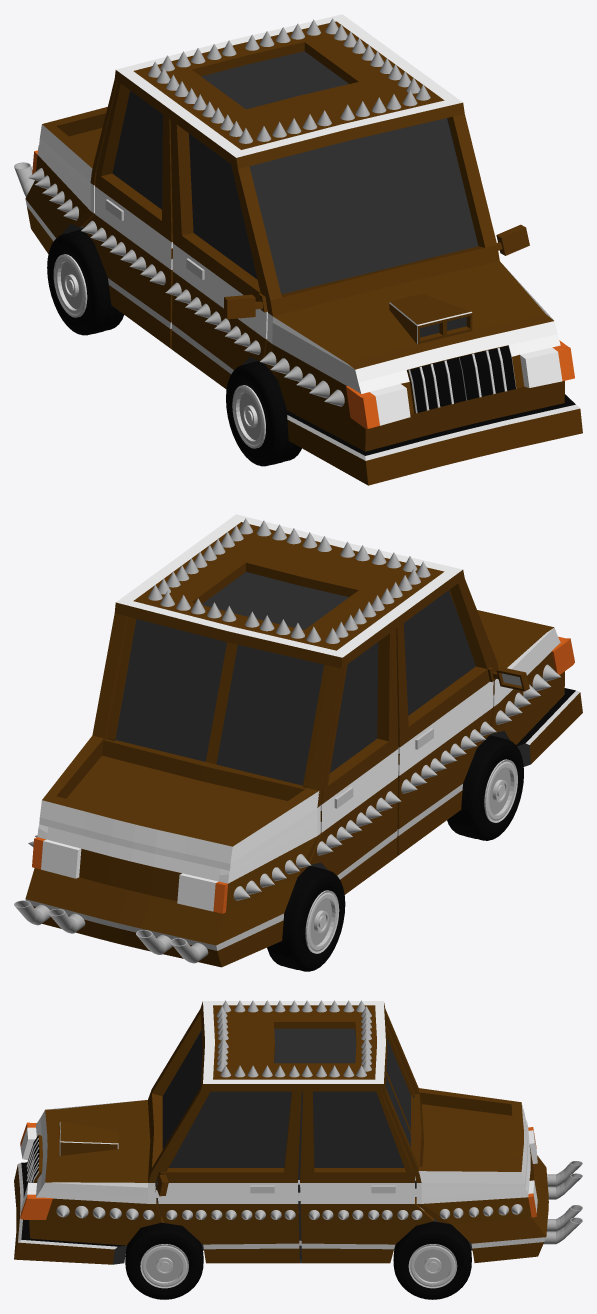
3 views of the same model, one above another, from view 1: azimuth 30°, elevation 25°; view 2: azimuth 150°, elevation 25°; view 3: azimuth 270°, elevation 25° (orthographic). The views are drawn at different scales.
Parts seen in each view (by area): view 1: BODY, WHEEL.004, WHEEL.001; view 2: BODY, WHEEL.004, WHEEL.001; view 3: BODY, WHEEL.002, WHEEL.003.
Part boxes in pixels (x1,y1,x2,y2): BODY: (14, 14, 582, 485); WHEEL.004: (47, 229, 123, 335); WHEEL.001: (226, 361, 301, 466); BODY: (14, 514, 582, 967); WHEEL.004: (267, 866, 345, 971); WHEEL.001: (447, 735, 523, 840); BODY: (14, 1000, 582, 1264); WHEEL.002: (393, 1221, 471, 1299); WHEEL.003: (125, 1222, 203, 1299).
Bounding box in the file's own units: 131 × 123 × 284.
